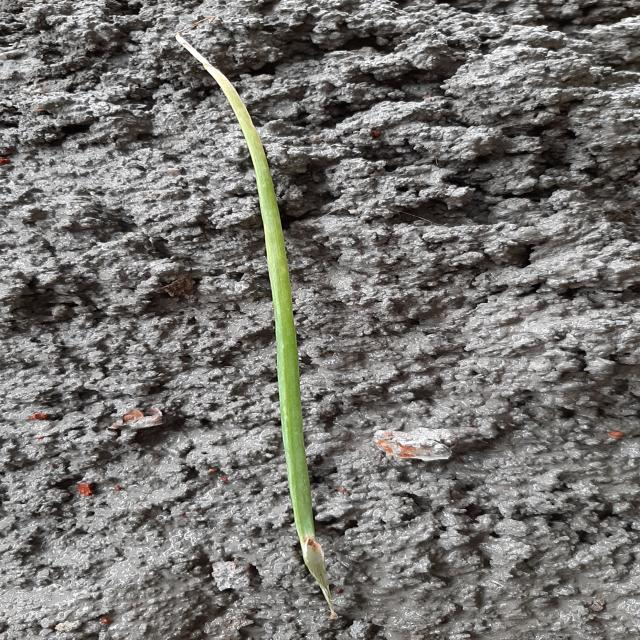onion: (176, 30, 325, 585)
